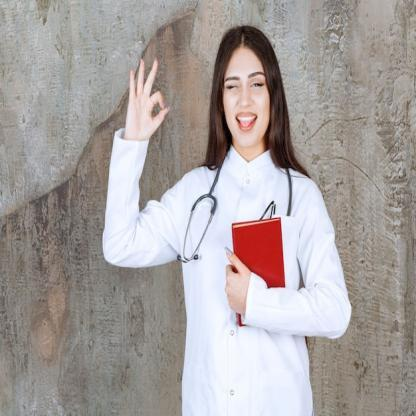ok: (126, 53, 172, 144)
